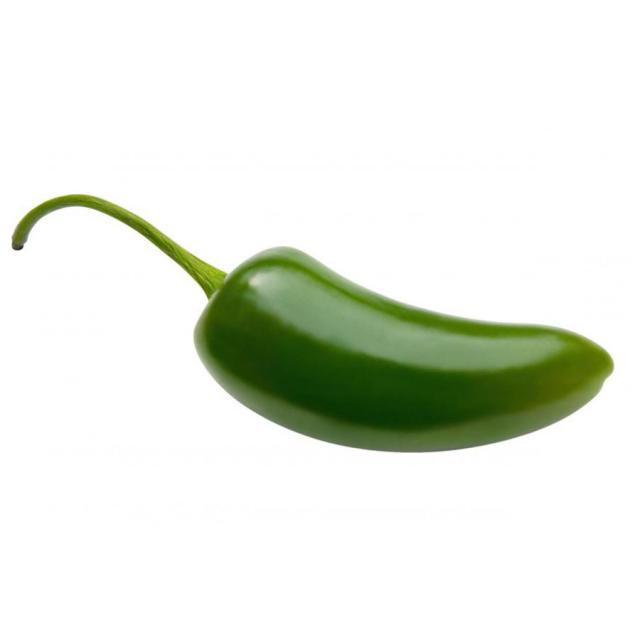aji: (142, 189, 633, 455)
